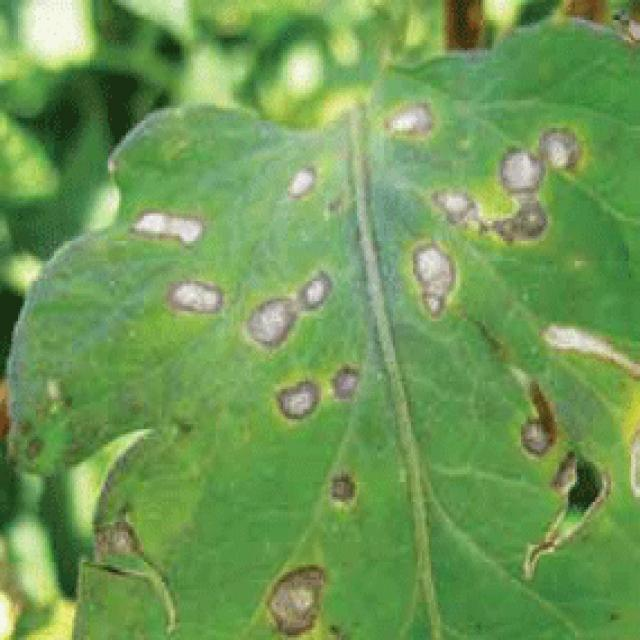Septoria: (134, 175, 360, 444), (379, 104, 614, 358), (228, 475, 400, 640), (494, 392, 584, 503), (84, 514, 164, 578)
